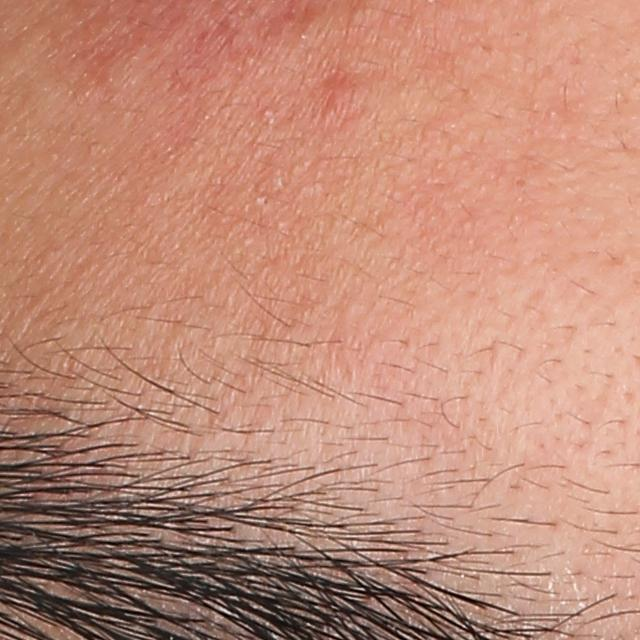comedo: (513, 176, 529, 190), (260, 107, 277, 118)
